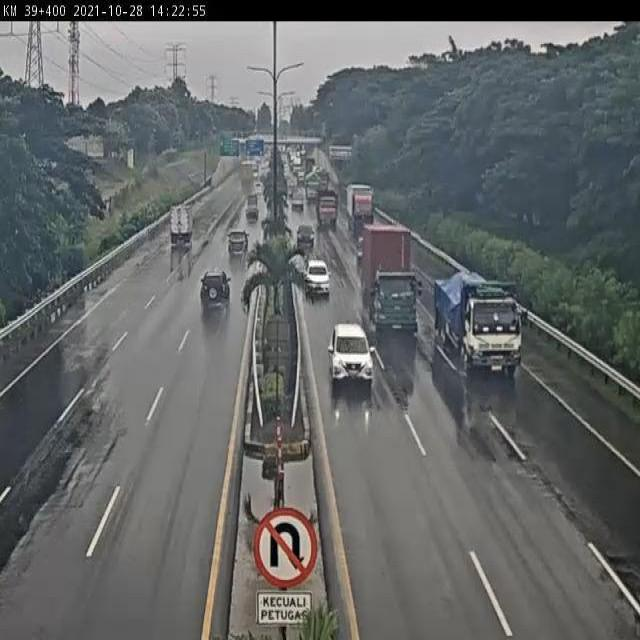car: (329, 324, 376, 387), (303, 261, 333, 299), (201, 271, 231, 305), (227, 229, 250, 255), (296, 225, 315, 251)
truck-l-: (435, 273, 532, 376), (348, 183, 376, 229)
truck-m-: (170, 203, 194, 244)
truck-xl-: (363, 227, 421, 336)
